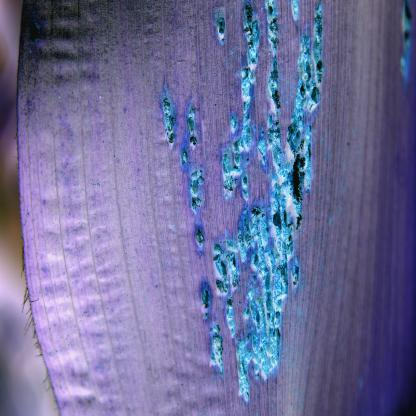corn rust leaf: (0, 0, 416, 416)
